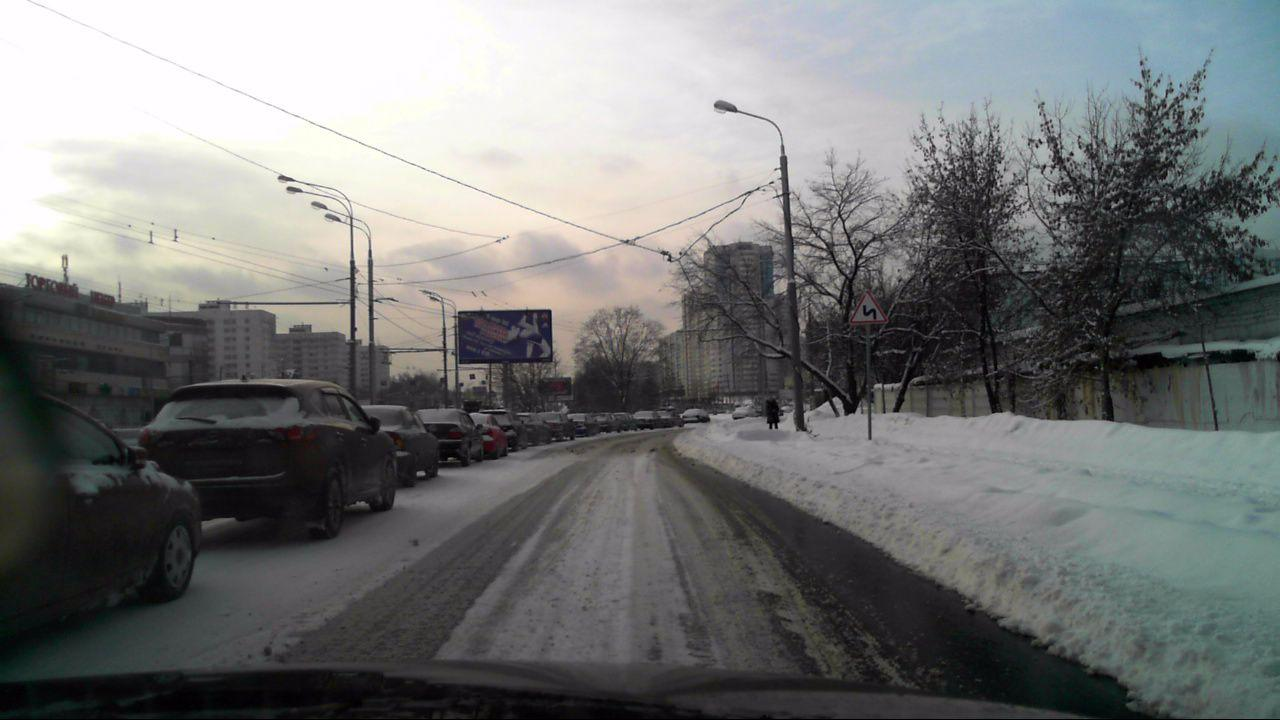1_12_2: (850, 290, 886, 326)
